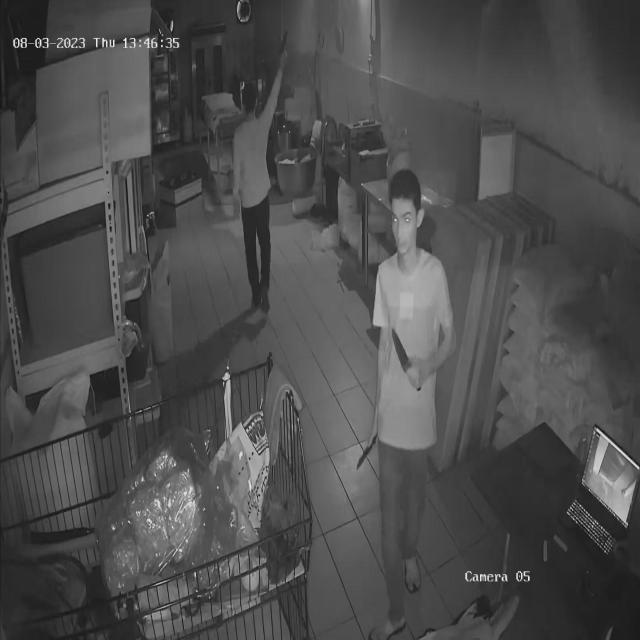Gun: (271, 23, 300, 70)
Knife: (384, 323, 434, 400)
